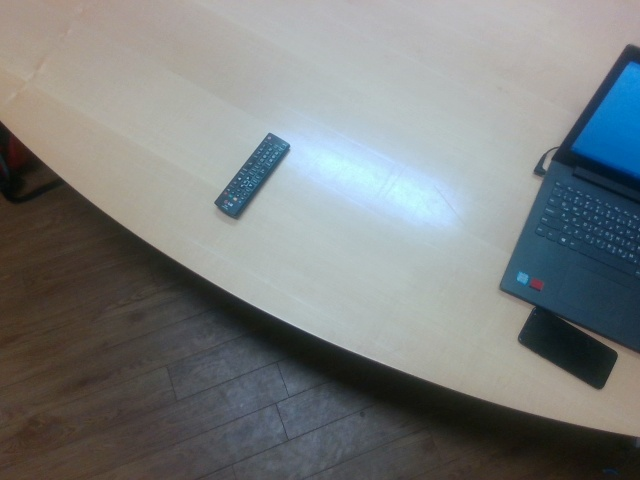remote: (213, 132, 291, 221)
